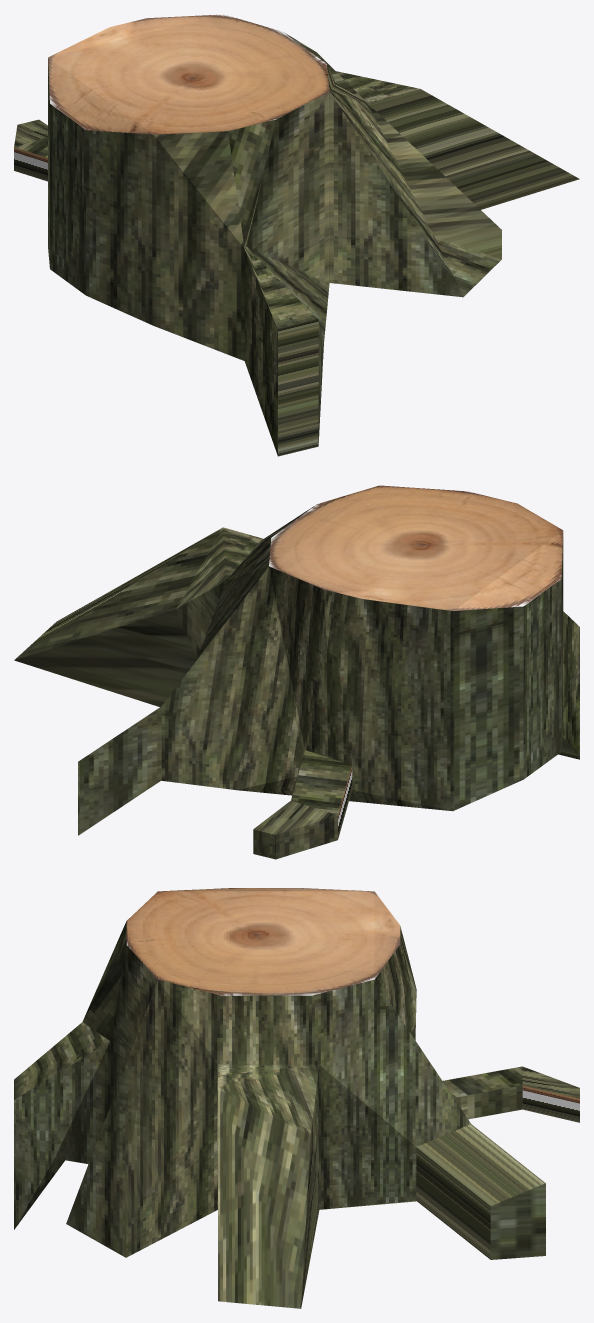
File: low_poly_psx_treetrunk.glb
3 views of the same model, one above another, from view 1: azimuth 30°, elevation 25°; view 2: azimuth 150°, elevation 25°; view 3: azimuth 270°, elevation 25° (orthographic). The views are drawn at different scales.
Parts seen in each view (by area): view 1: Cube; view 2: Cube; view 3: Cube.
Boxes of the visible parts, left/top/right/bottom form: Cube: left=14, top=14, right=579, bottom=456; Cube: left=14, top=485, right=579, bottom=859; Cube: left=14, top=888, right=579, bottom=1308.
Bounding box in the file's own units: 2.11 × 1.18 × 2.06.
1 material, 1 textured.
